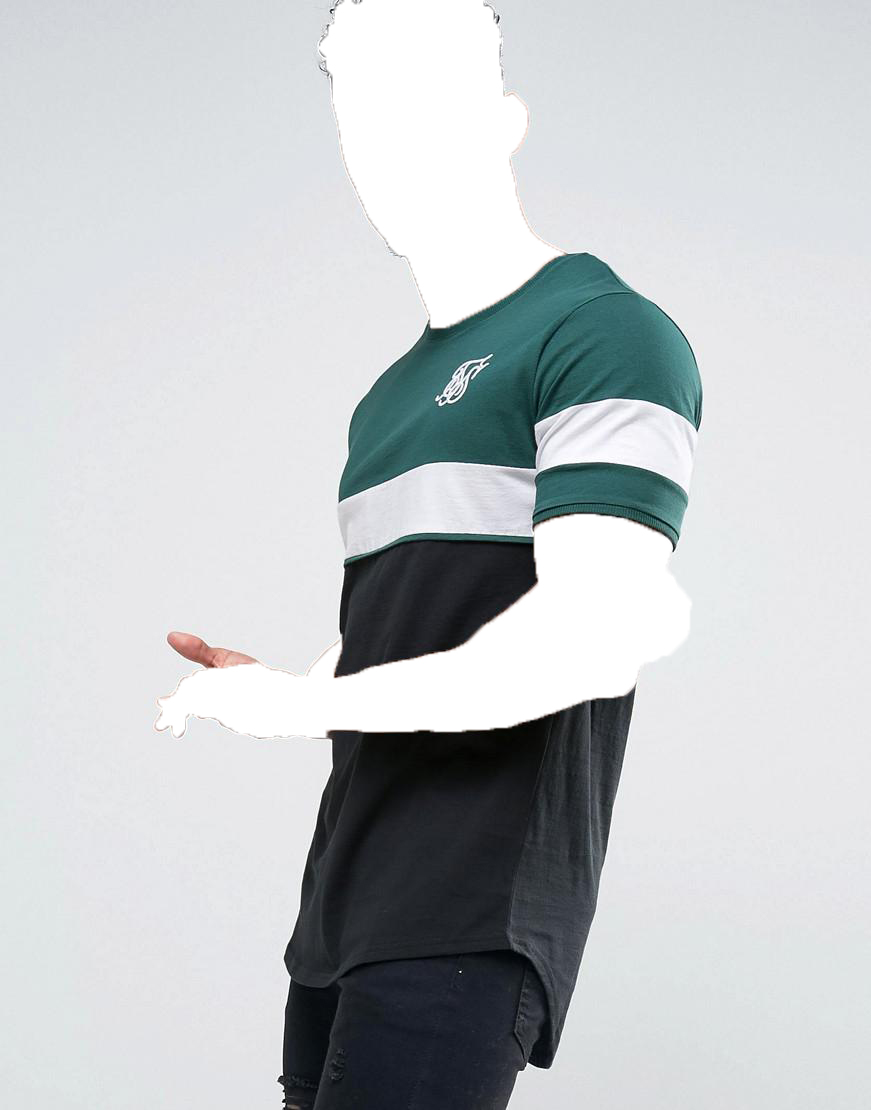teeshirt: (288, 249, 715, 1074)
